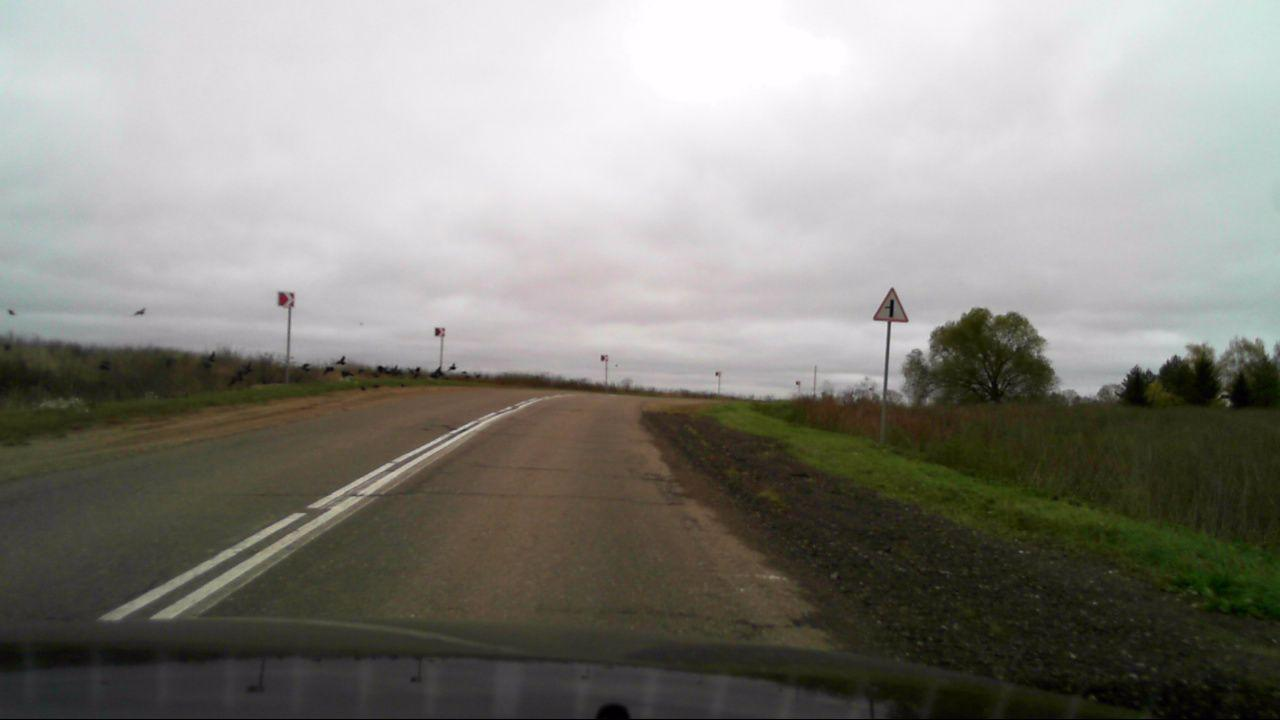2_3_3: (873, 285, 910, 323)
